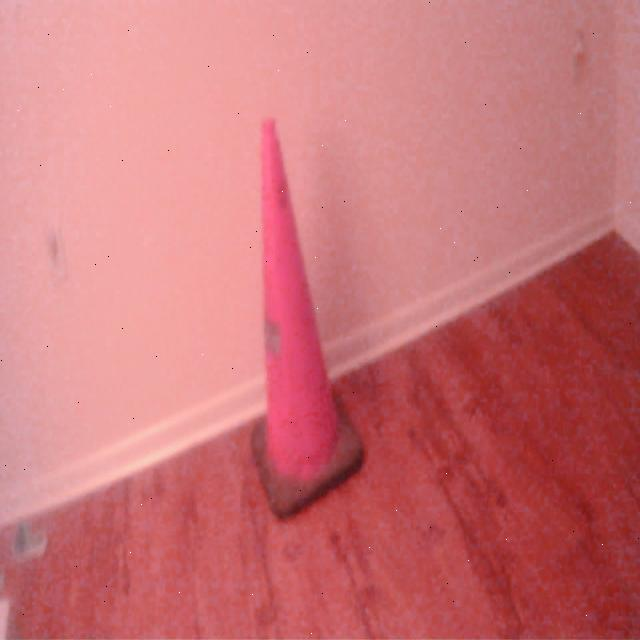traffic cone: (249, 112, 369, 525)
